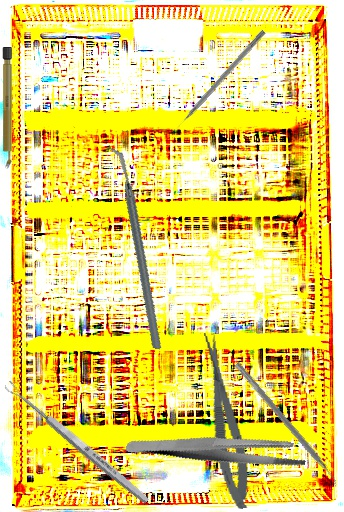Chopper: (65, 144, 205, 351)
Dressing Forceps: (125, 394, 310, 505)
Micro Scissor: (198, 329, 255, 512)
Pusher: (169, 28, 267, 135)
Scalpel Handle: (2, 47, 12, 169)
Spatula Surgical: (229, 361, 343, 490)
Surgical Spoon: (3, 379, 151, 506)
